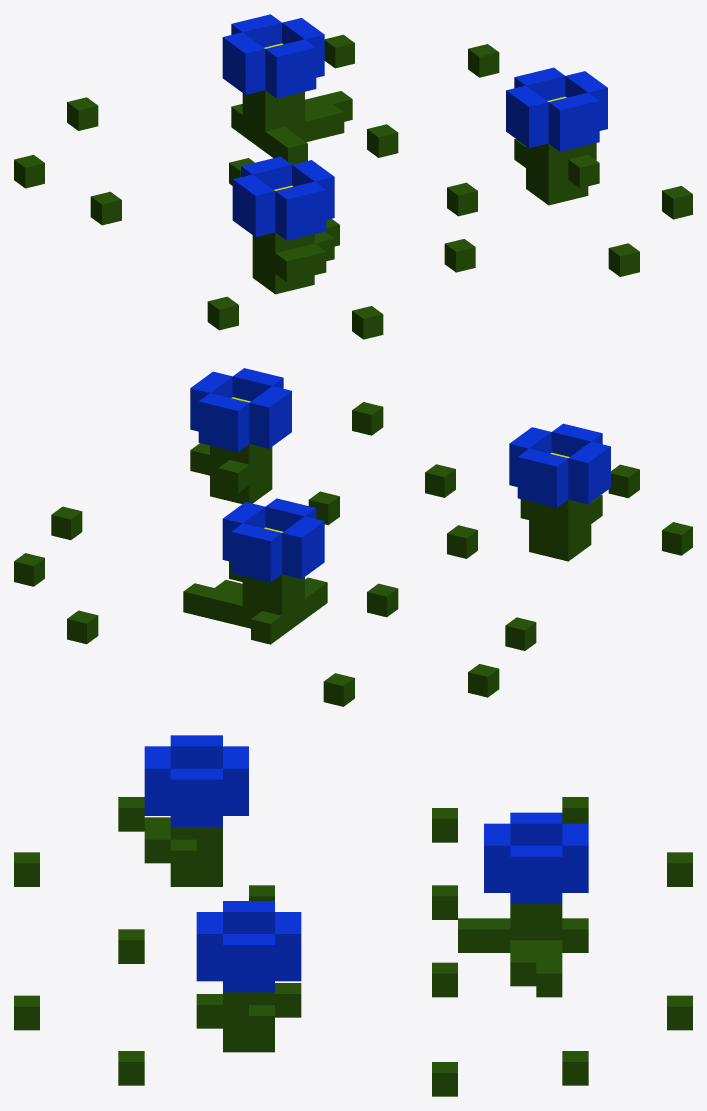
File: kukkia.gltf
3 renders of one model, top to bottom at view 1: azimuth 30°, elevation 25°; view 2: azimuth 150°, elevation 25°; view 3: azimuth 270°, elevation 25°, orthographic. The views are drawn at different scales.
Visible parts, largest first — view 1: Layer.1; view 2: Layer.1; view 3: Layer.1.
Part boxes in pixels (box(x1,y1,x2,y2)): Layer.1: box(14, 14, 692, 339); Layer.1: box(14, 368, 692, 706); Layer.1: box(14, 735, 692, 1096).
Bounding box in the file's own units: 25 × 5 × 26.
Materials: 1 (1 with a texture image).
